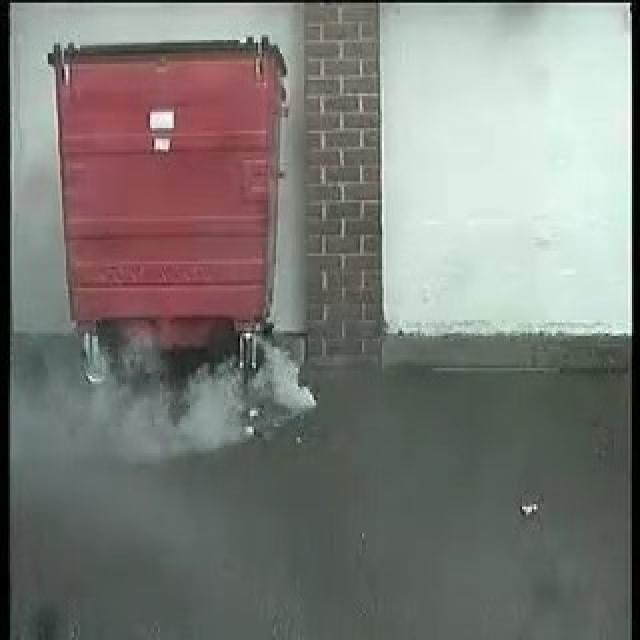smoke: (101, 343, 317, 458)
